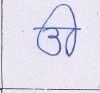i_matra: (58, 3, 81, 56)
